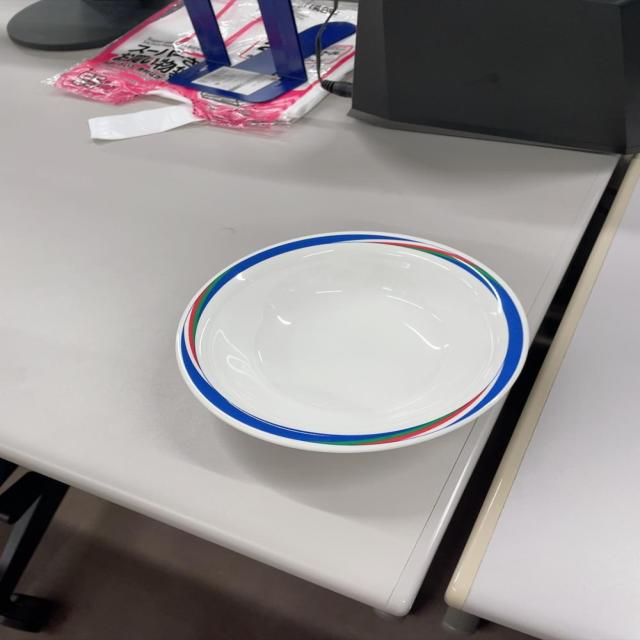plate: (176, 231, 531, 454)
